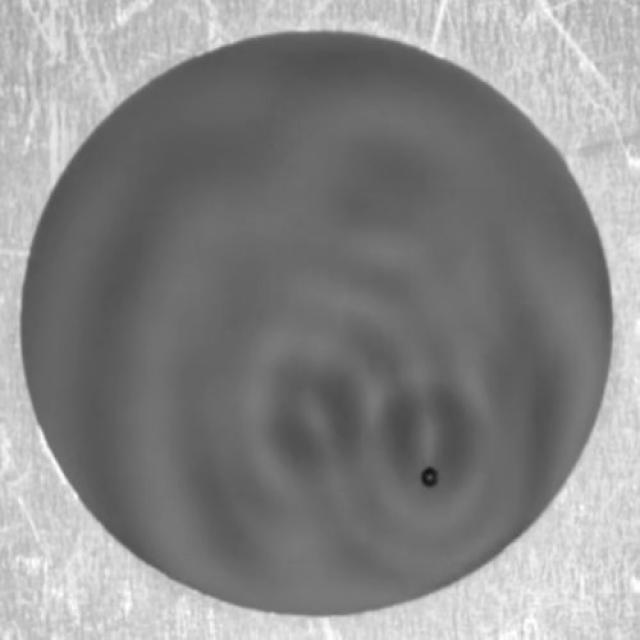droplet: (420, 466, 440, 490)
